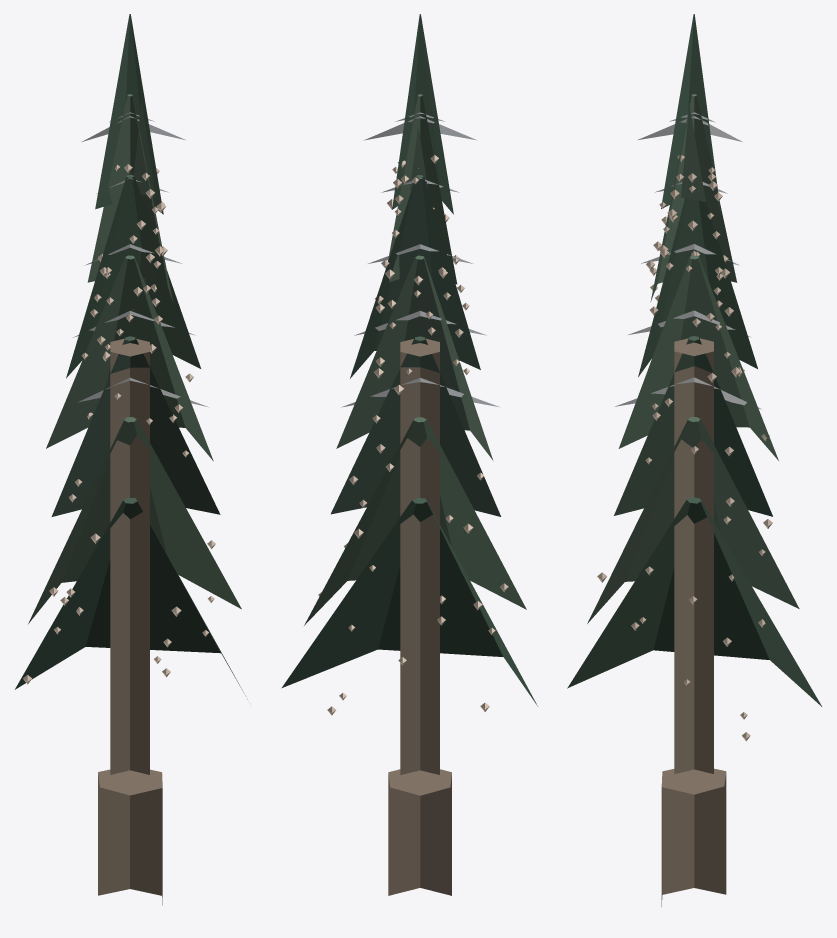
Rendered from shu.yunshan@flowering__winter.glb.
3 views of the same model, side by side, from view 1: azimuth 30°, elevation 25°; view 2: azimuth 150°, elevation 25°; view 3: azimuth 270°, elevation 25° (orthographic).
Parts seen in each view (by area): view 1: shu.yunshan@flowering__winter; view 2: shu.yunshan@flowering__winter; view 3: shu.yunshan@flowering__winter.
Part boxes in pixels (box(x1,y1,x2,y2)): shu.yunshan@flowering__winter: box(15, 14, 247, 905); shu.yunshan@flowering__winter: box(281, 14, 537, 895); shu.yunshan@flowering__winter: box(567, 14, 821, 906).
Size of the model in its own units: 4.5 by 17.97 by 4.69.
